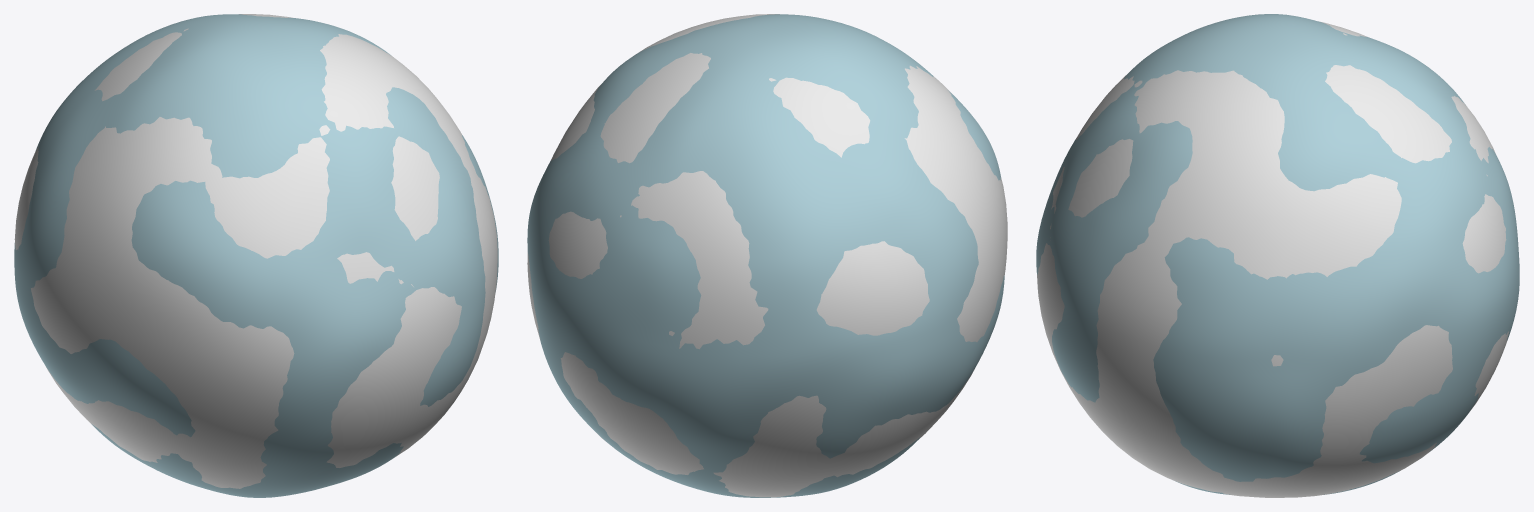
The model's file is clay_ball_sim_ready_01.glb.
The picture shows the model from 3 angles, left to right: view 1: azimuth 30°, elevation 25°; view 2: azimuth 150°, elevation 25°; view 3: azimuth 270°, elevation 25°; orthographic projection.
Visible parts, largest first — view 1: CLAY_Render_Surface_01, CLAY_Sim_Proxy_01; view 2: CLAY_Render_Surface_01, CLAY_Sim_Proxy_01; view 3: CLAY_Render_Surface_01, CLAY_Sim_Proxy_01.
Boxes of the visible parts, x1,y1,x2,y2 form: CLAY_Render_Surface_01: (14,14,498,497); CLAY_Sim_Proxy_01: (14,14,497,488); CLAY_Render_Surface_01: (527,14,1004,497); CLAY_Sim_Proxy_01: (527,14,1007,497); CLAY_Render_Surface_01: (1036,14,1519,494); CLAY_Sim_Proxy_01: (1037,21,1508,497).
Size of what is drawn, in the model's own units: 2 by 2.01 by 2.02.
